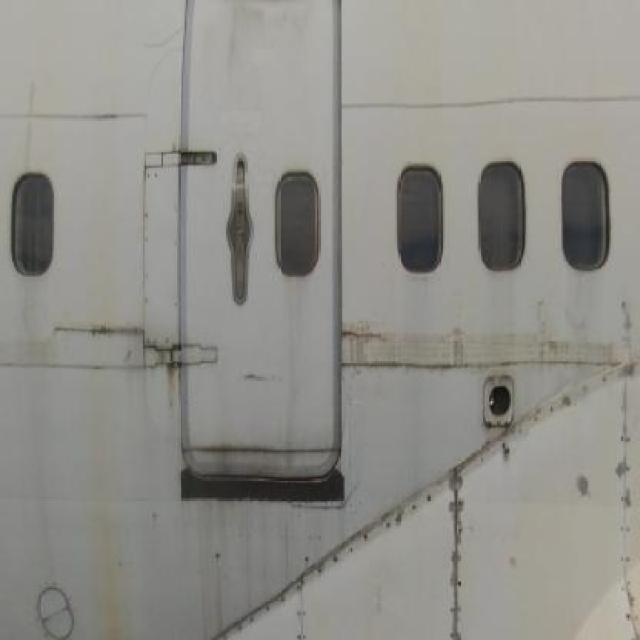Missing-Rivet: (471, 396, 615, 469), (138, 146, 185, 357), (310, 501, 456, 567), (609, 334, 640, 631), (442, 438, 472, 640), (208, 572, 290, 640), (293, 554, 315, 640)
Rust: (78, 415, 140, 640), (157, 360, 178, 417)
Scartch: (55, 326, 191, 386)
